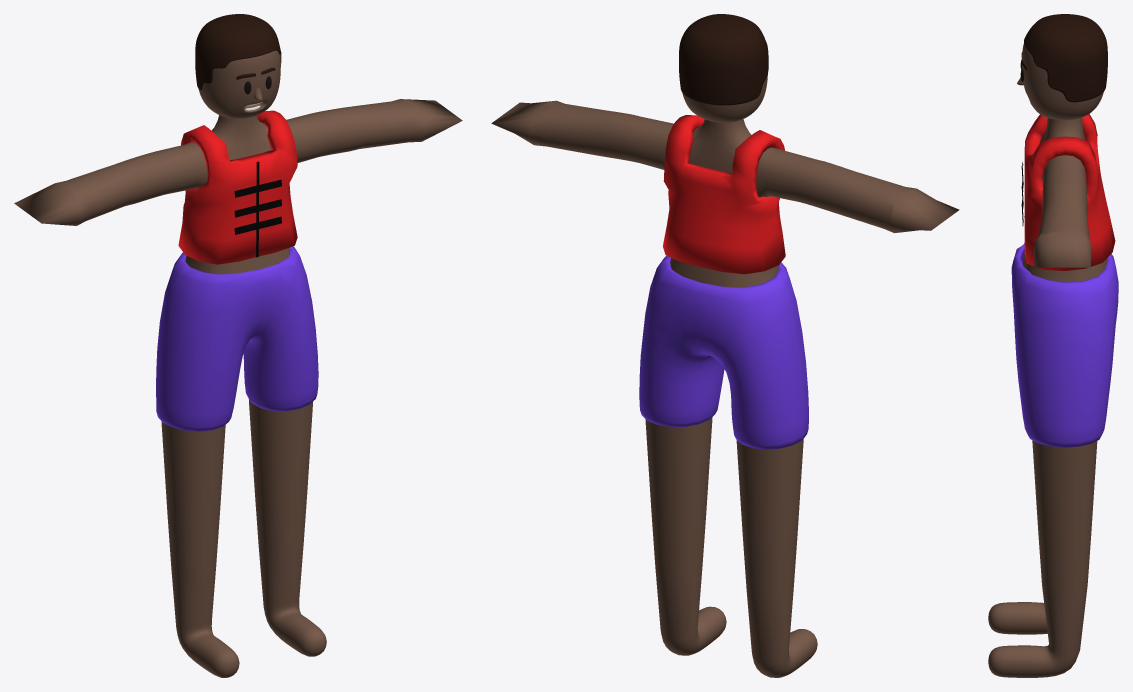
File: NPC(purple shorts).fbx
3 renders of one model, left to right at view 1: azimuth 30°, elevation 25°; view 2: azimuth 150°, elevation 25°; view 3: azimuth 270°, elevation 25°, orthographic. The views are drawn at different scales.
Visible parts, largest first — view 1: body, SHORTS, body.001, Cube.005, Cube; view 2: body, SHORTS, body.001, Cube.005, Cube; view 3: body, SHORTS, body.001, Cube.005, Cube.
Boxes of the visible parts, x1,y1,x2,y2 form: body: (14,99,462,677); SHORTS: (156,246,318,431); body.001: (178,110,297,264); Cube.005: (195,14,281,90); Cube: (198,50,280,118); body: (491,100,959,677); SHORTS: (639,255,808,449); body.001: (663,115,785,274); Cube.005: (679,14,768,105); Cube: (682,74,767,122); body: (988,117,1107,677); SHORTS: (1011,244,1118,447); body.001: (1024,114,1115,270); Cube.005: (1024,14,1107,102); Cube: (1022,44,1103,120).
Size of the model in its own units: 190 by 269 by 50.16.
